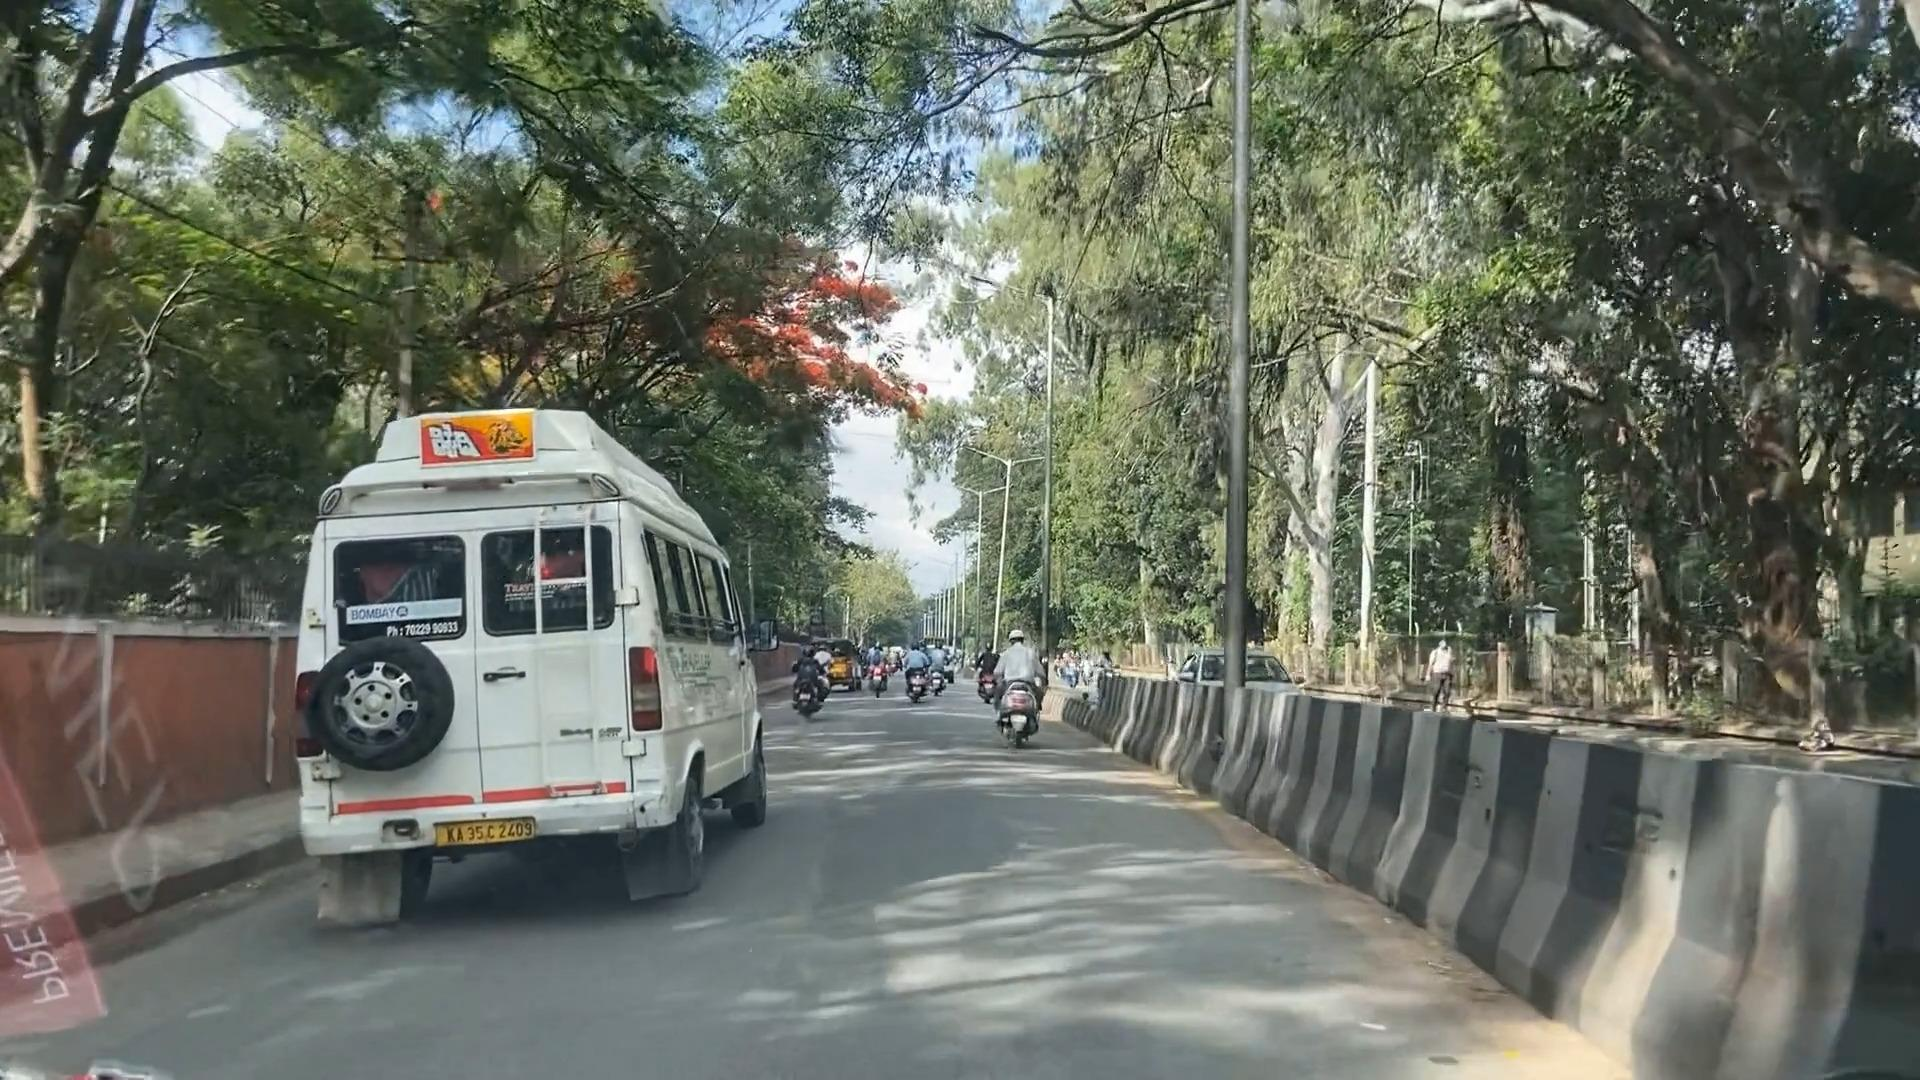HMV: (295, 495, 663, 907)
LMV: (996, 626, 1030, 740), (786, 640, 828, 711)
